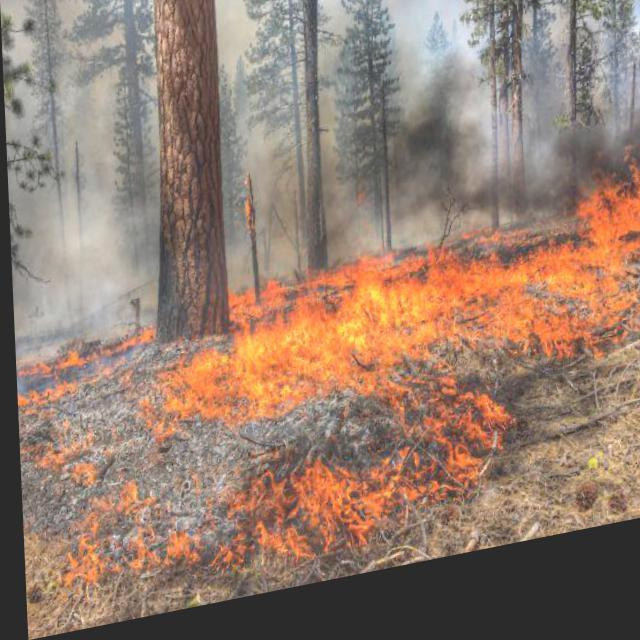Fire: (20, 192, 639, 610)
